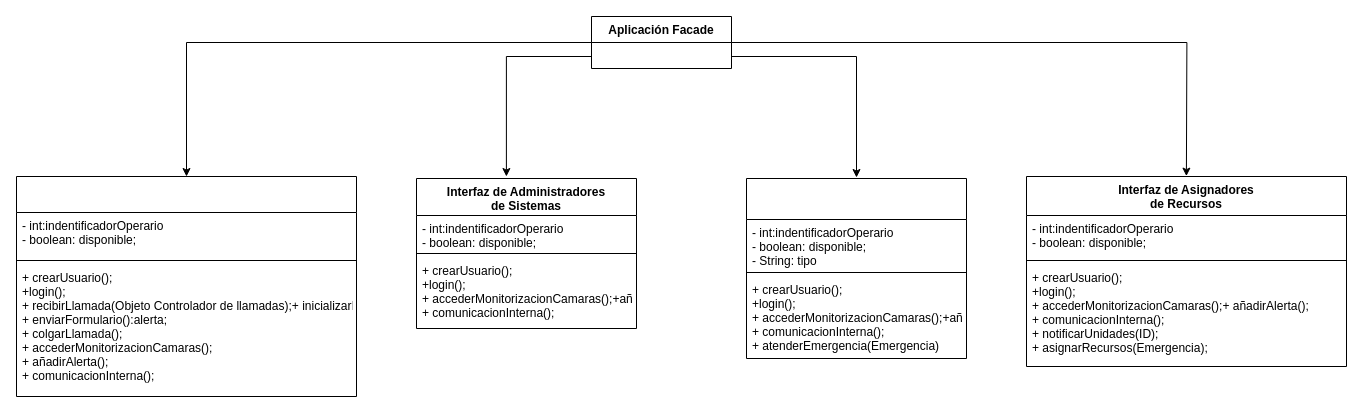
The diagram is 1363 pixels wide and 413 high, and some of its shapes have lost their labels. The shapes that lost their labels are listed below. From the top down, each one's box as (x1, y1, x2, y2) in pixels, then its label:
(16, 176, 356, 396): Interfaz de Operarios de Emergencias
(746, 178, 966, 358): Interfaz de Operadores de Unidades Activas
